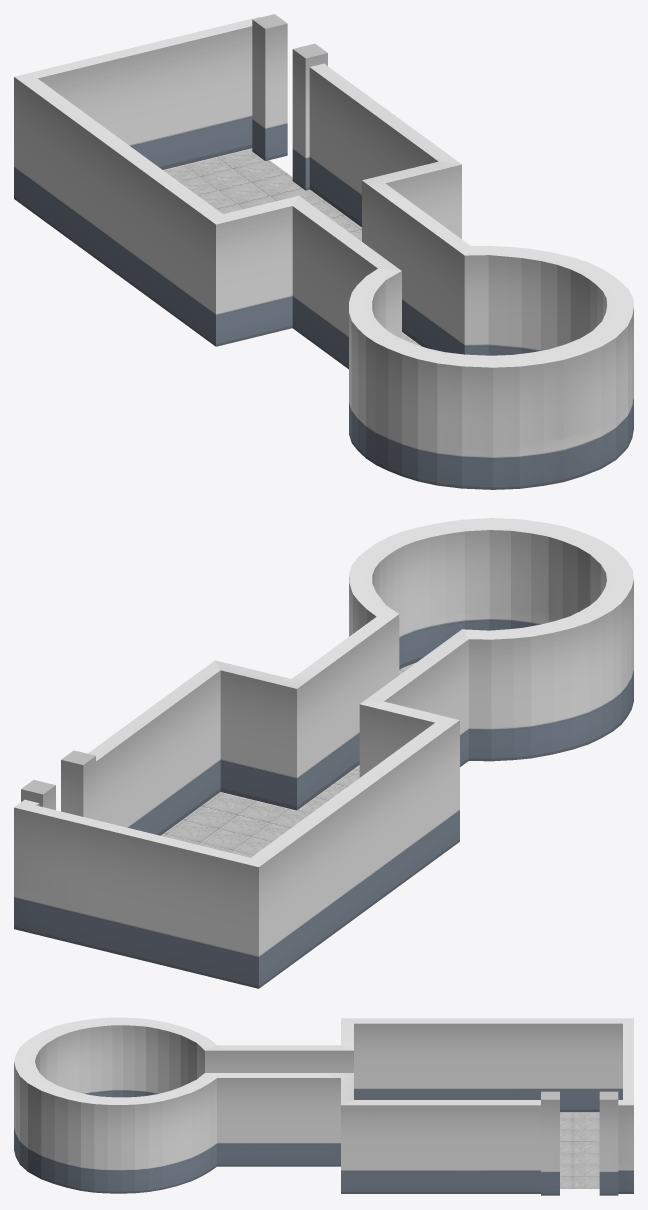
The model's file is diban.obj.
3 renders of one model, top to bottom at view 1: azimuth 30°, elevation 25°; view 2: azimuth 150°, elevation 25°; view 3: azimuth 270°, elevation 25°, orthographic. The views are drawn at different scales.
Parts seen in each view (by area): view 1: Box001, Box002; view 2: Box001, Box002; view 3: Box001, Box002.
Part boxes in pixels (bbox=[...]): Box001: bbox=[14, 14, 633, 489]; Box002: bbox=[163, 149, 419, 345]; Box001: bbox=[14, 518, 633, 988]; Box002: bbox=[161, 663, 414, 857]; Box001: bbox=[14, 1017, 633, 1195]; Box002: bbox=[560, 1112, 599, 1188].
Bounding box in the file's own units: 563 × 283 × 1657.
Materials: 2 (2 with a texture image).
